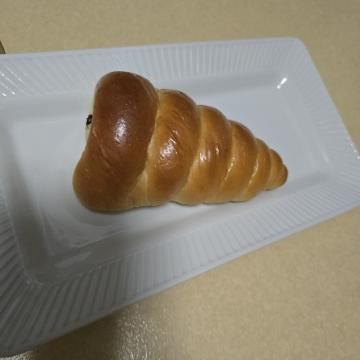cream horn: (61, 56, 241, 306)
